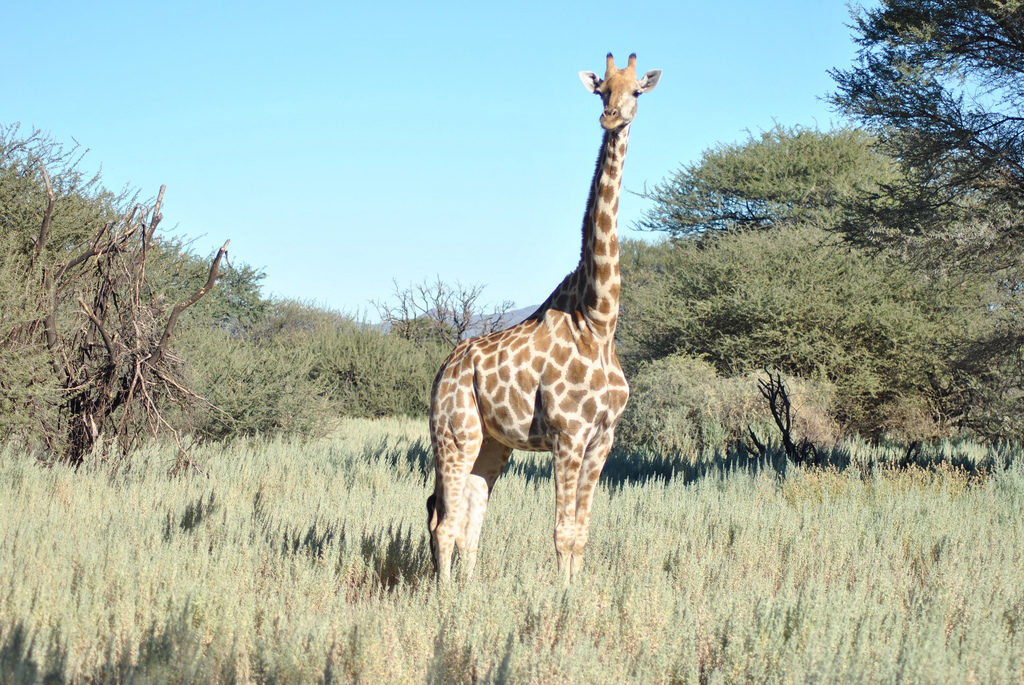giraffe: (419, 23, 678, 596)
